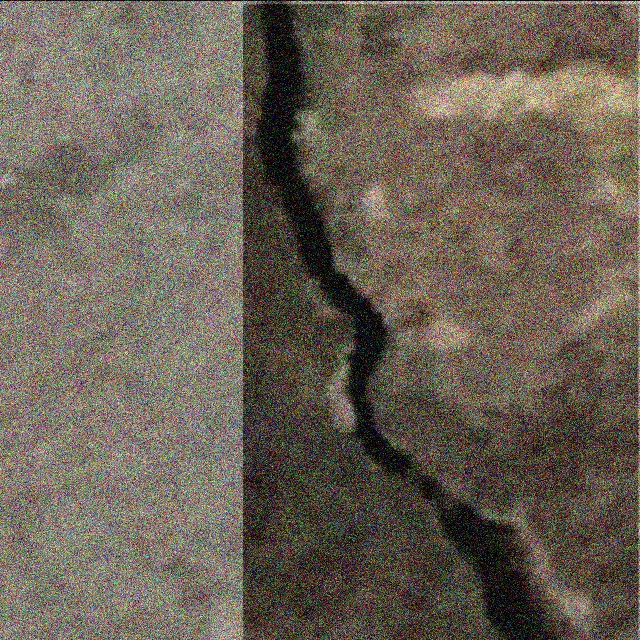SurfaceCrack: (232, 0, 594, 640)
